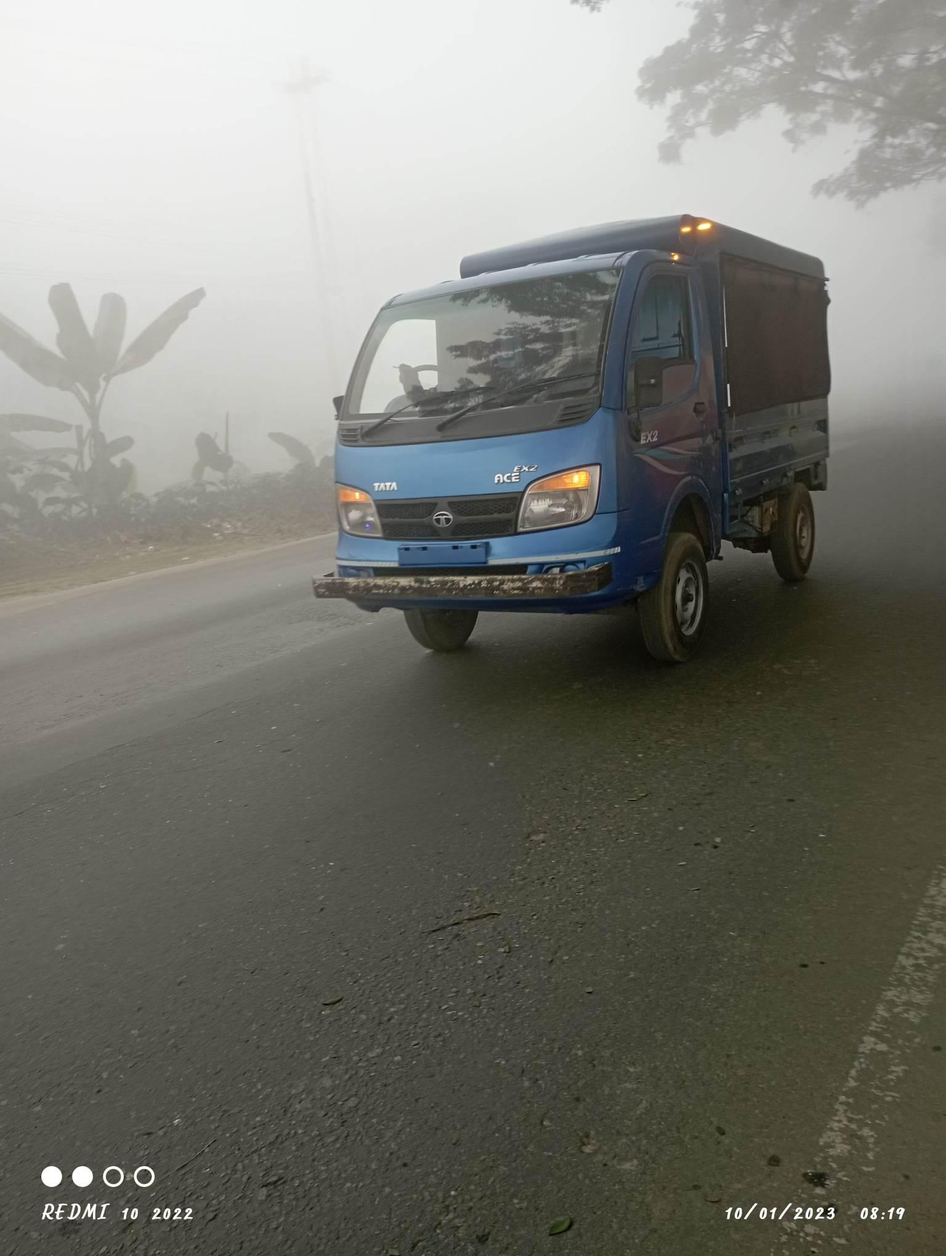Car: (254, 202, 855, 663)
